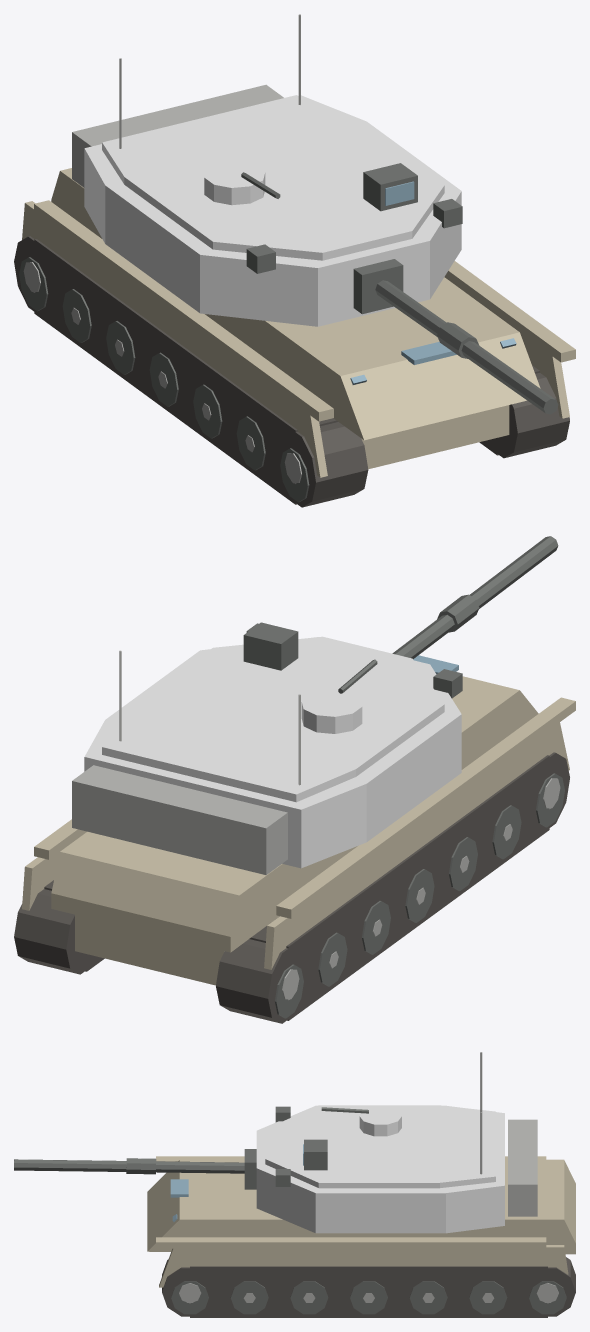
Rendered from civ_unit_modern_armor.glb.
3 views of the same model, one above another, from view 1: azimuth 30°, elevation 25°; view 2: azimuth 150°, elevation 25°; view 3: azimuth 270°, elevation 25° (orthographic). The views are drawn at different scales.
Parts seen in each view (by area): view 1: civ_unit_modern_armor; view 2: civ_unit_modern_armor; view 3: civ_unit_modern_armor.
Boxes of the visible parts, x1,y1,x2,y2 form: civ_unit_modern_armor: (14,14,575,507); civ_unit_modern_armor: (14,536,575,1023); civ_unit_modern_armor: (14,1052,575,1317).
Size of the model in its own units: 3.5 by 3.6 by 9.5.
